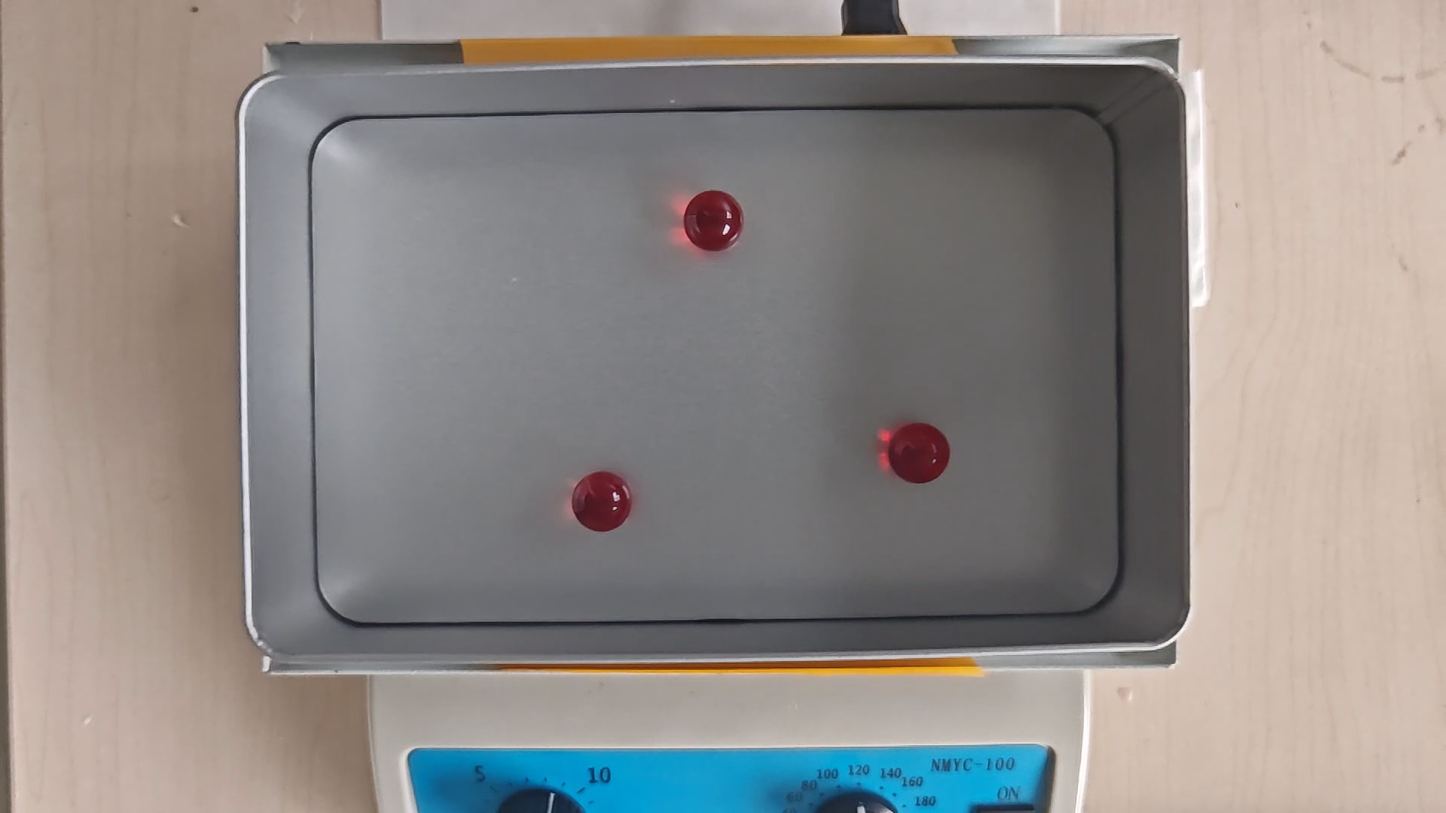ball: (890, 421, 949, 485), (572, 470, 632, 532), (682, 191, 742, 250)
container: (313, 108, 1119, 623)
